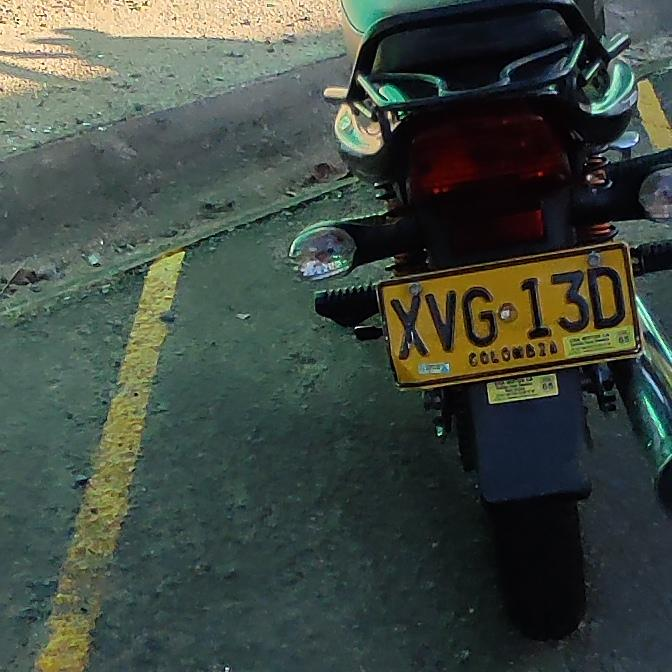plates: (381, 243, 638, 391)
